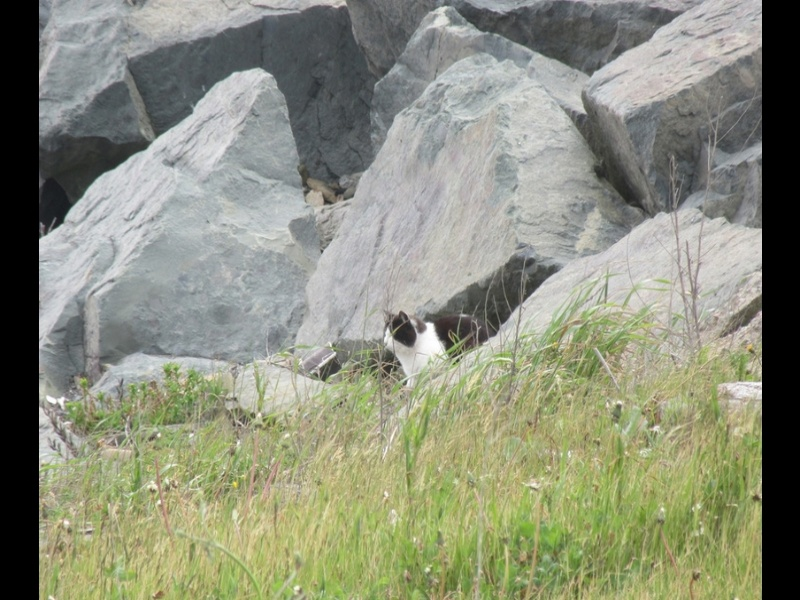cat: (378, 304, 471, 393)
